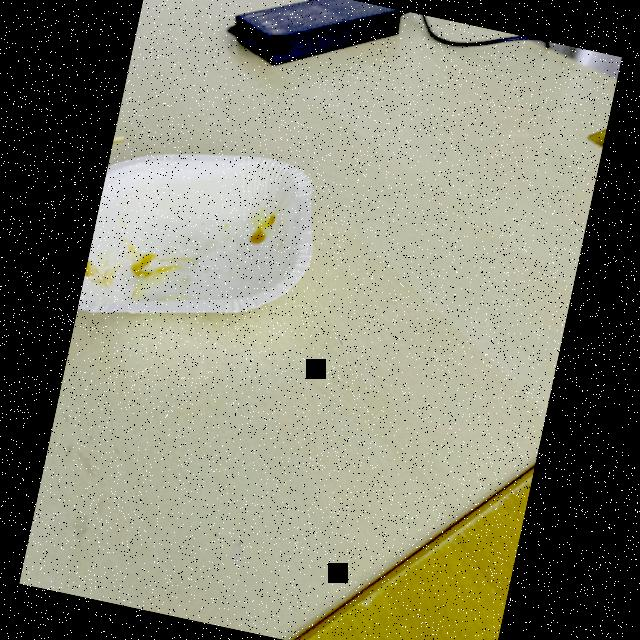cardboard_bowl: (76, 123, 351, 364)
